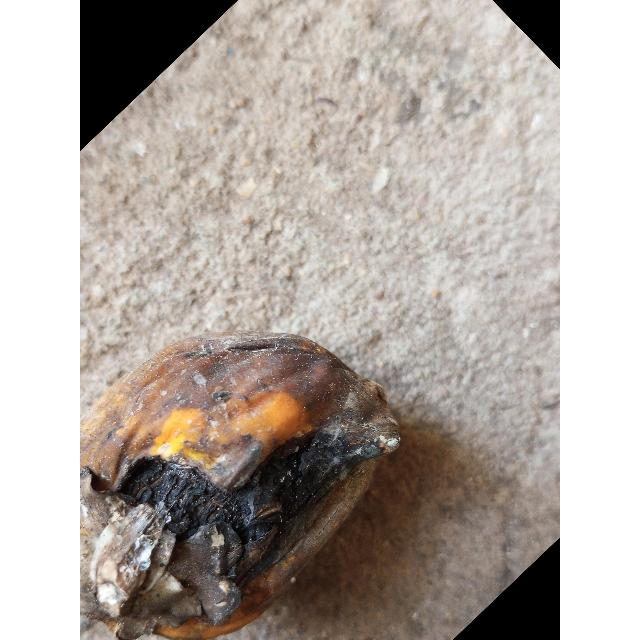damaged: (80, 334, 402, 640)
